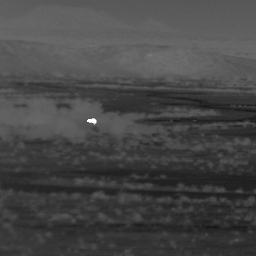Target: (86, 117, 98, 125)
